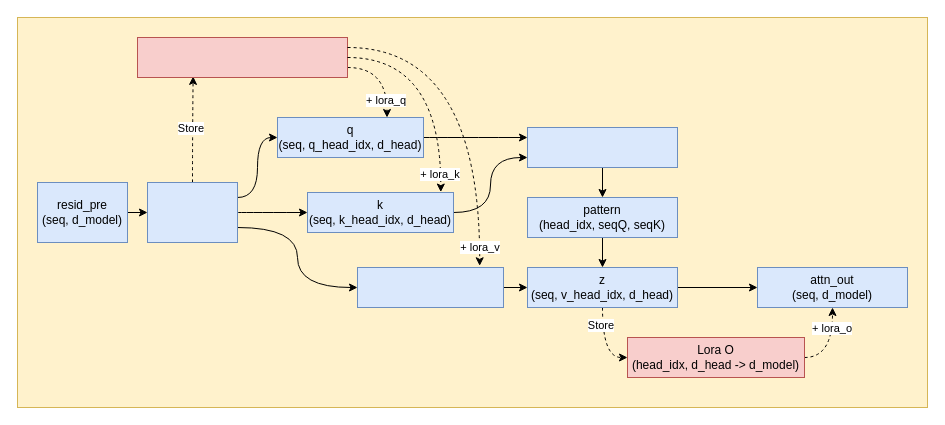
Some shapes in this 945 by 425 pixel diagram are drawn without their labels. The centre of each missing label's shape, as x and y in pixels:
attn_scores (head_idx, seqQ, seqK): the point at 602,147
LoRA QKV (d_model --> head_idx, d_head): the point at 242,57
normalized (seq, d_model): the point at 192,212
v (seq, v_head_idx, d_head): the point at 430,287
